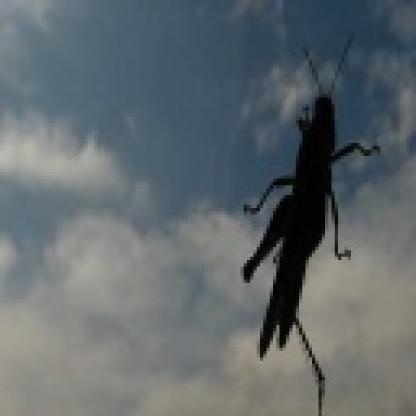grasshopper: (246, 35, 382, 392)
